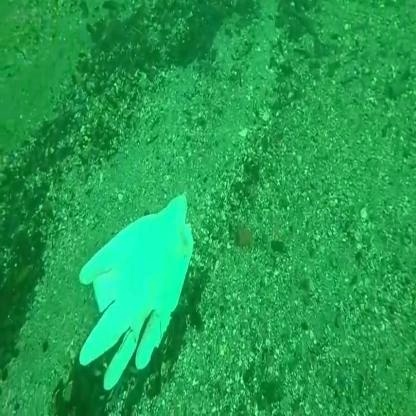glove: (73, 192, 197, 392)
